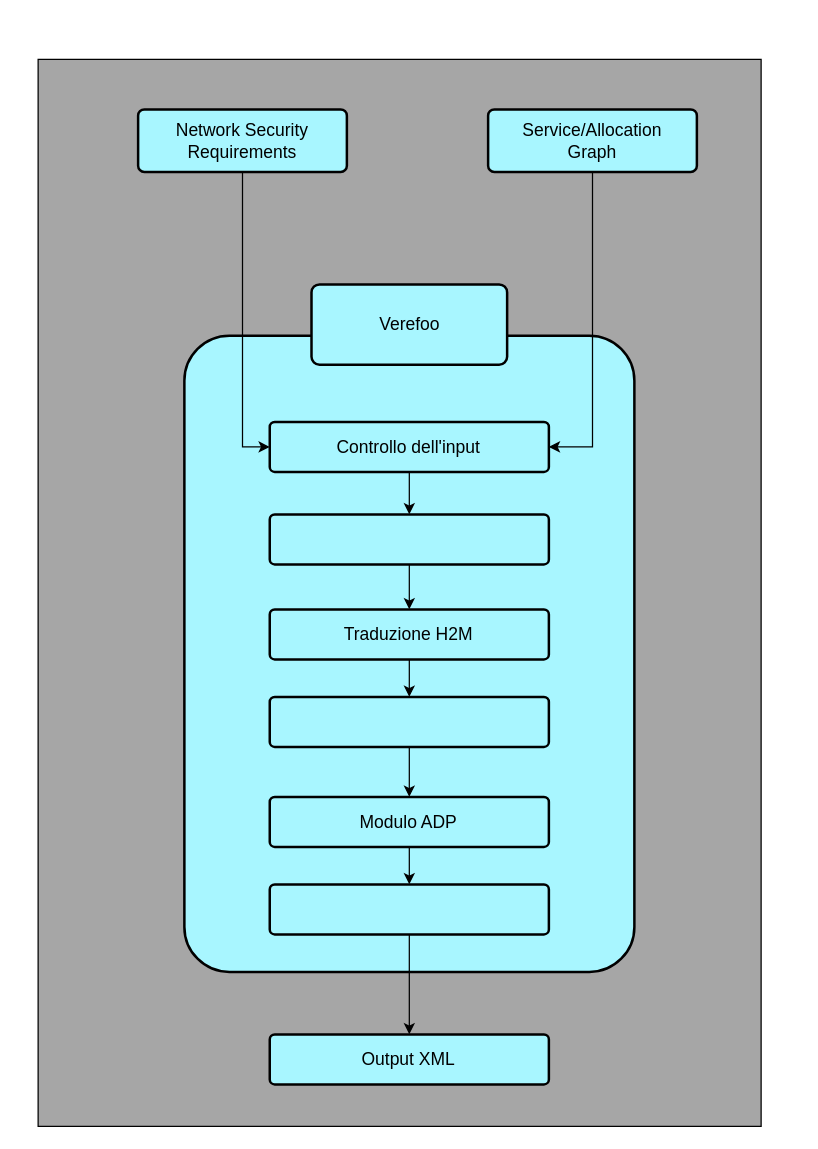
Image size: 818x1149. Some labels were removed from this diagram. Each missing label, with the box of its shape:
Analisi Modulo PAN: (268, 512, 550, 565)
Selezione Network Functions SE: (268, 695, 550, 748)
Traduzione M2L: (268, 882, 550, 935)
